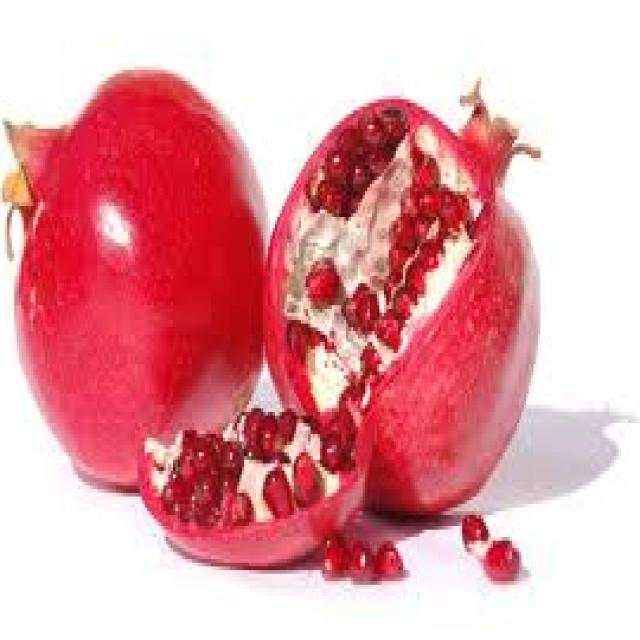pomegranate: (0, 55, 576, 618)
